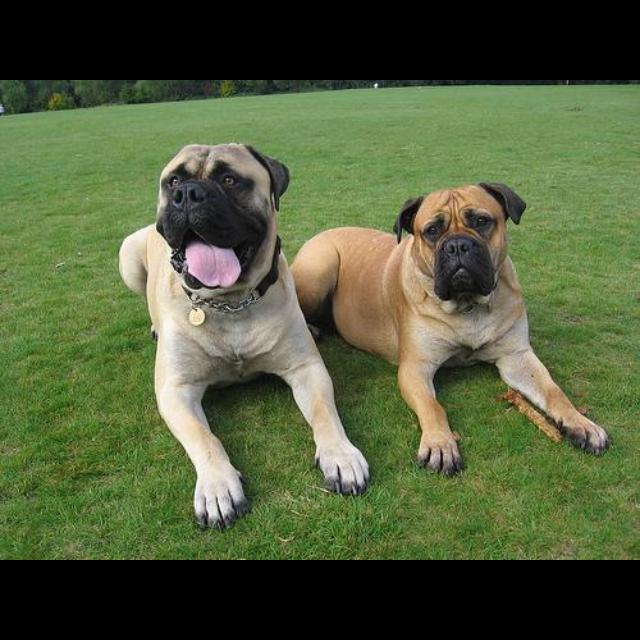bullmastiff: (118, 142, 371, 533), (290, 181, 610, 477)
